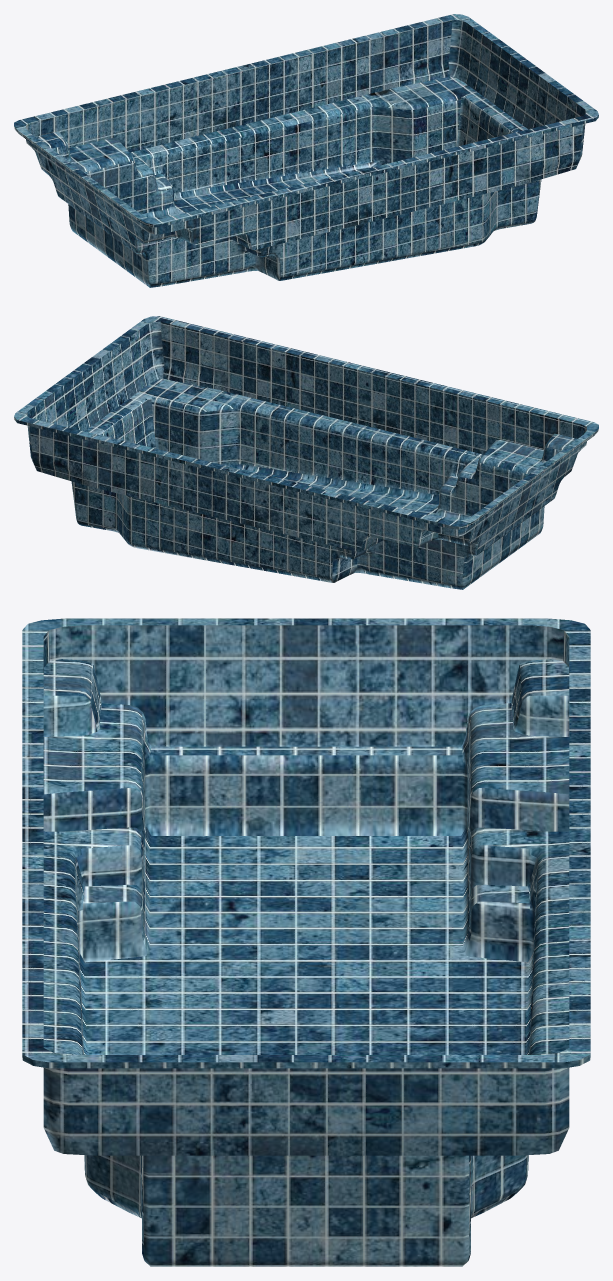
File: pool1_tri_blender.obj
The picture shows the model from 3 angles, top to bottom: view 1: azimuth 30°, elevation 25°; view 2: azimuth 150°, elevation 25°; view 3: azimuth 270°, elevation 25°; orthographic projection. The views are drawn at different scales.
Parts seen in each view (by area): view 1: Pool1_58; view 2: Pool1_58; view 3: Pool1_58.
Boxes of the visible parts, x1,y1,x2,y2 form: Pool1_58: [14, 14, 598, 287]; Pool1_58: [14, 316, 598, 589]; Pool1_58: [22, 618, 590, 1266].
Bounding box in the file's own units: 5.97 × 1.52 × 3.23.
